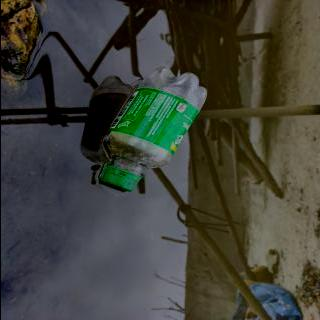bottle: (94, 66, 212, 194)
